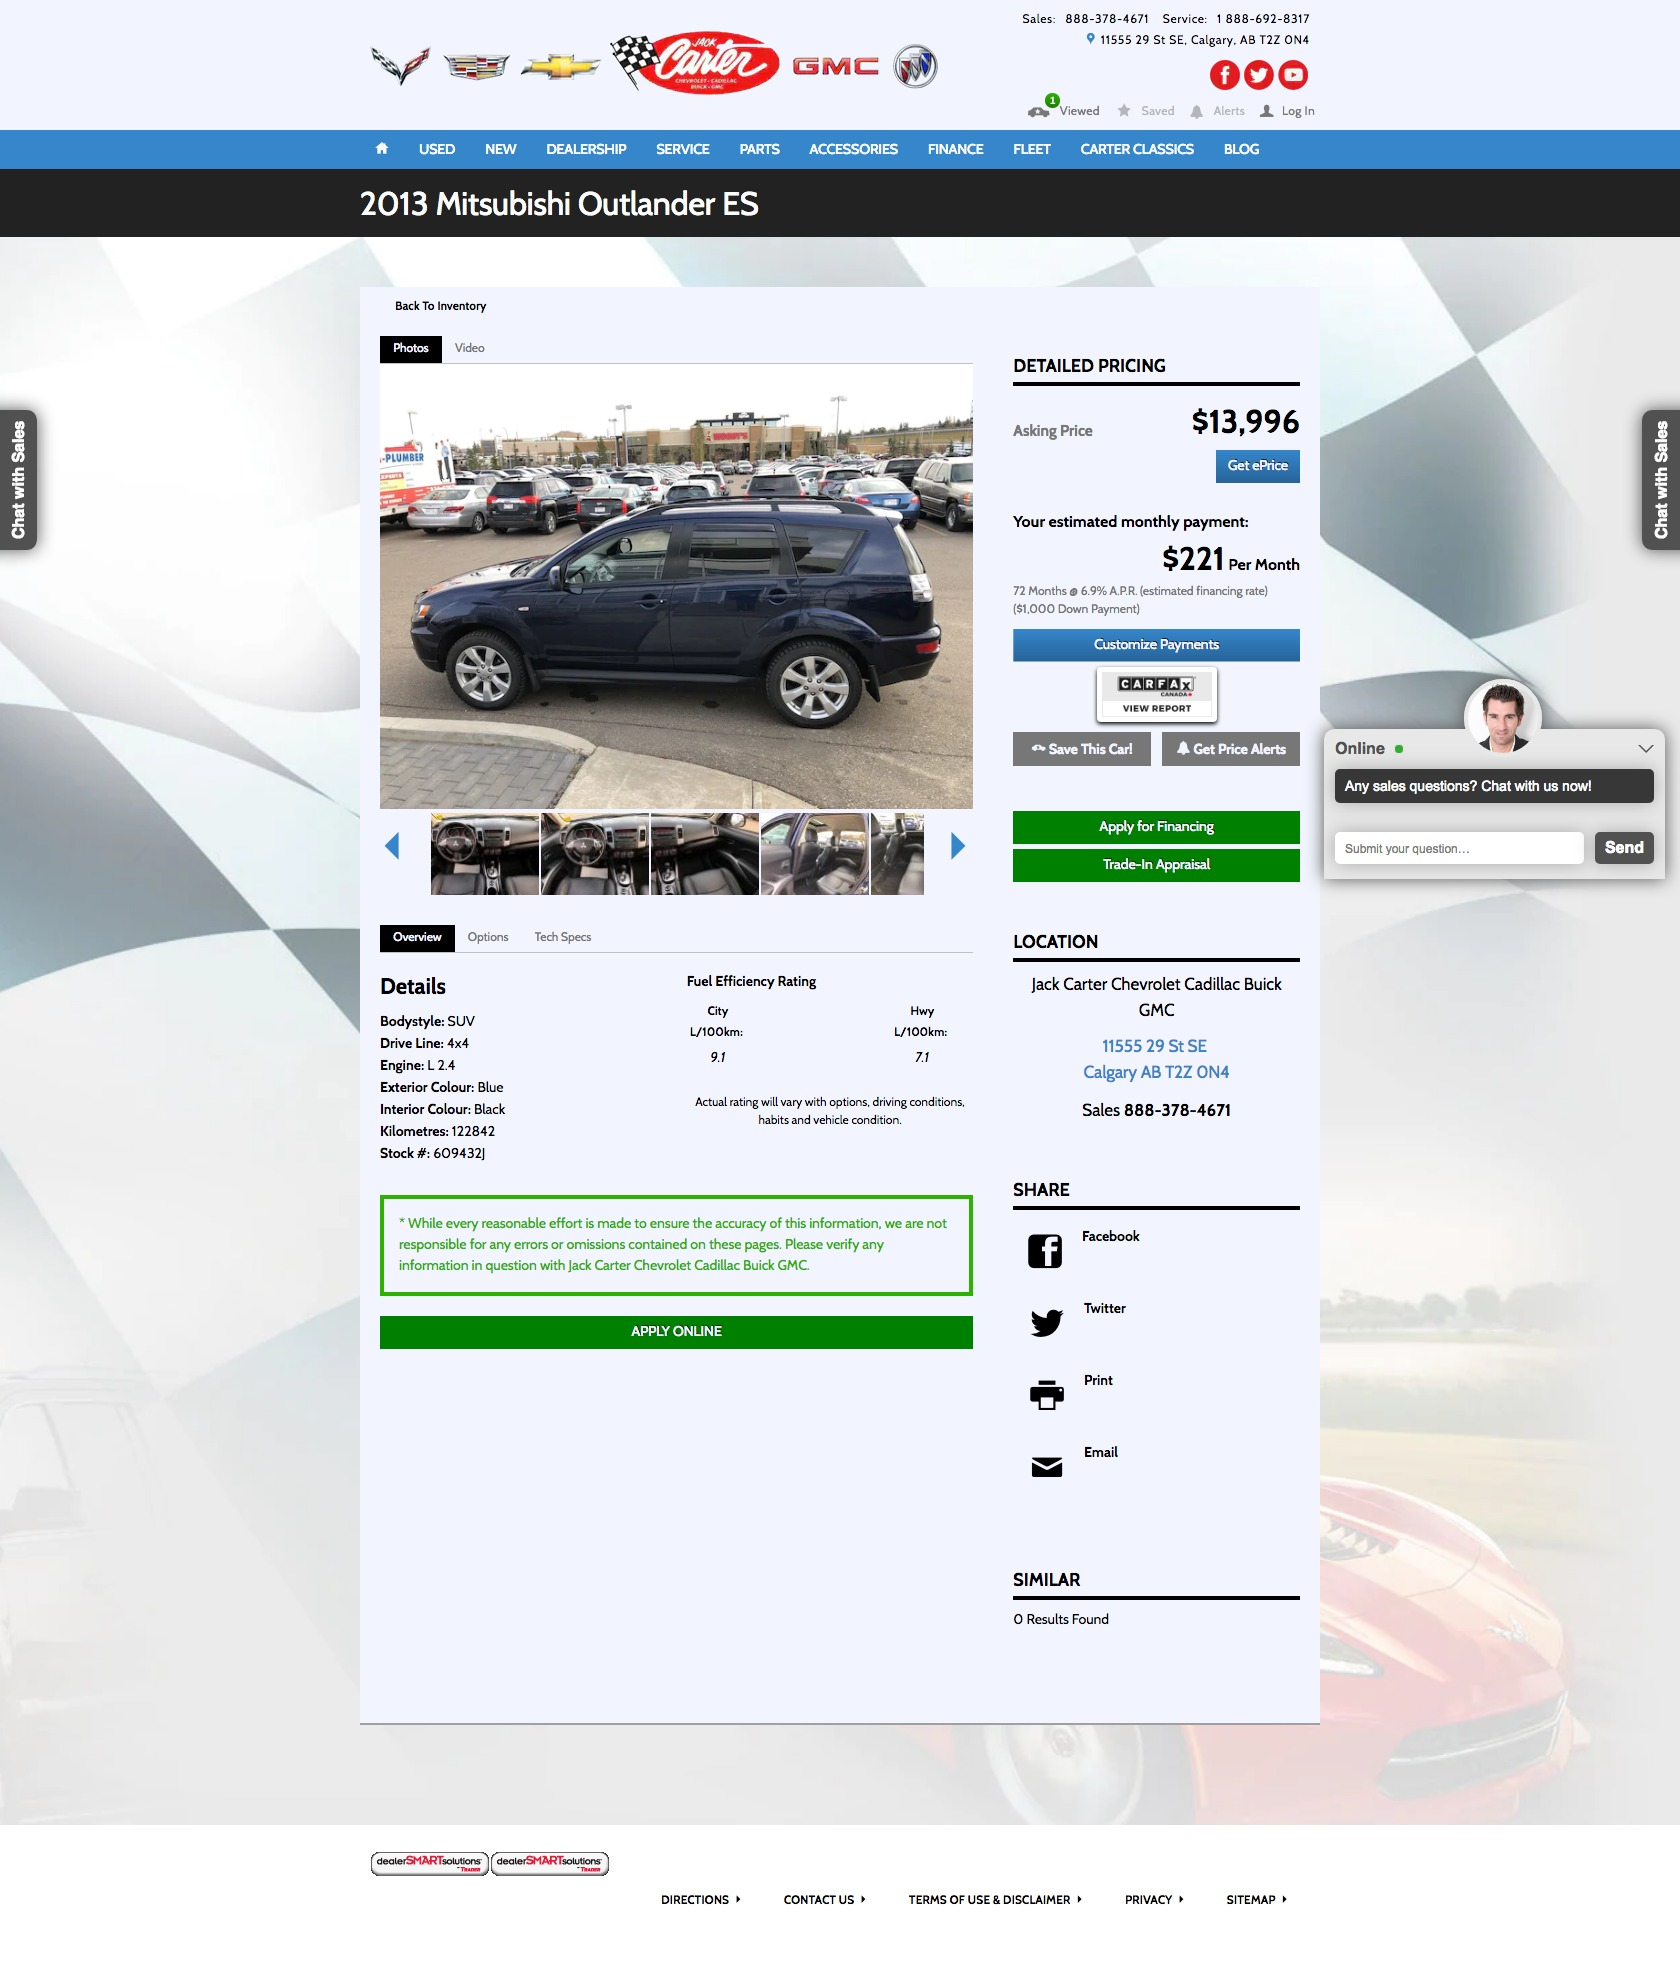car: (952, 831, 967, 861)
